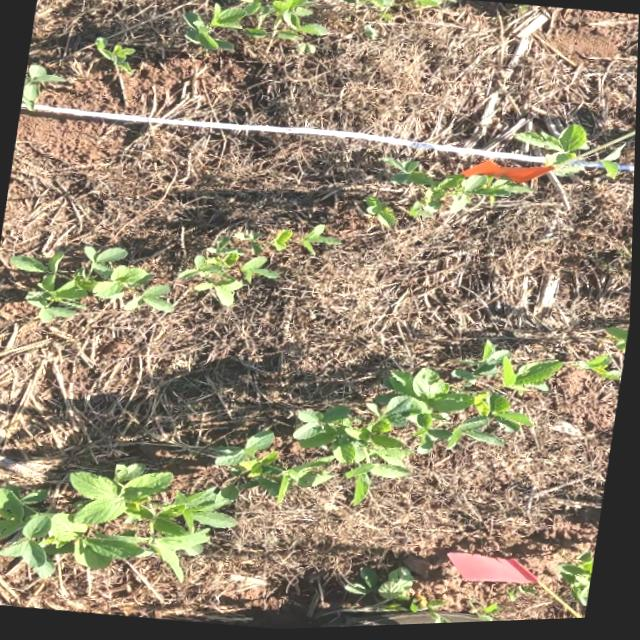soy_plant: (219, 346, 566, 506), (0, 463, 241, 580), (180, 225, 342, 307), (12, 245, 176, 321), (386, 160, 530, 220), (184, 0, 326, 54), (349, 568, 460, 627), (517, 127, 591, 179), (561, 554, 597, 609), (22, 63, 65, 109), (341, 0, 456, 17), (95, 37, 134, 72), (579, 357, 624, 384), (367, 198, 397, 228), (599, 148, 624, 181)
